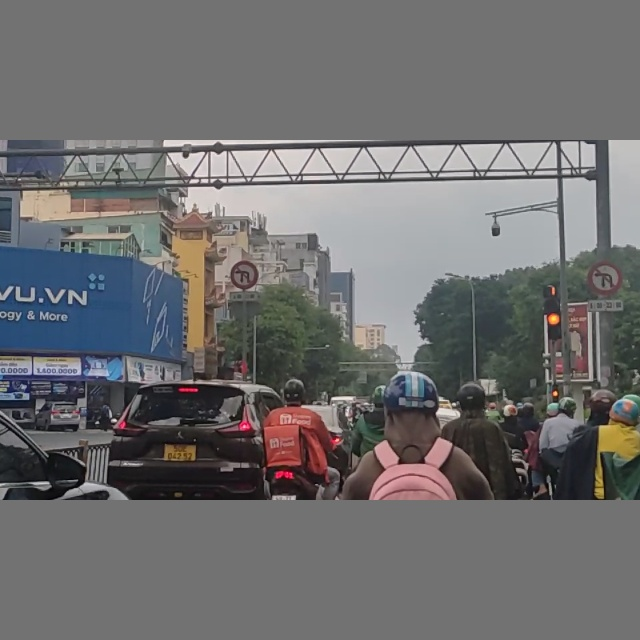P.124c: (587, 261, 623, 295), (231, 262, 261, 290)
